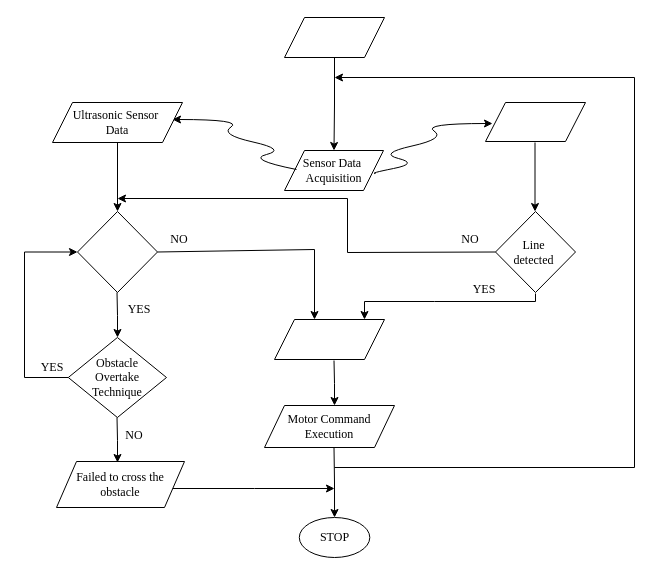
Image size: 660x575. Some labels were removed from this diagram. The centre of each missing label's shape, as x and y in pixels:
"5 Array IR Sensor" belongs at (x=535, y=122).
"Obstacle detected" belongs at (x=117, y=251).
"PID Controller" belongs at (x=329, y=339).
"System Initialization" belongs at (x=334, y=37).
